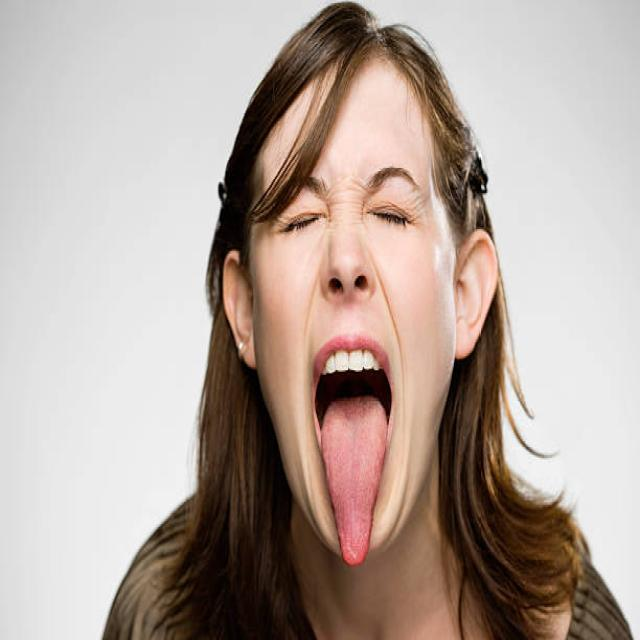tongue: (313, 392, 393, 570)
